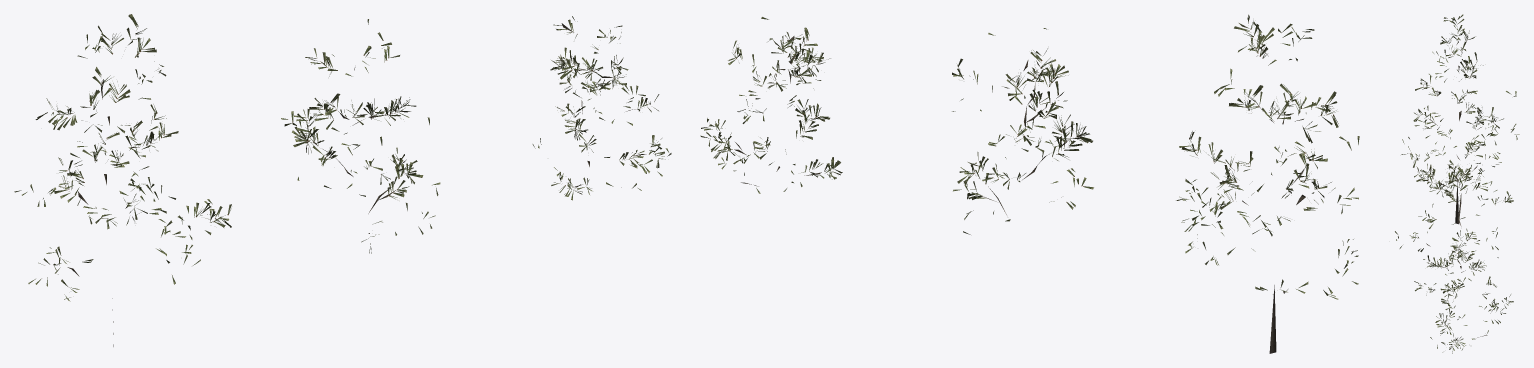
Rendered from pine_sapling_small_lo.glb.
The picture shows the model from 3 angles, left to right: view 1: azimuth 30°, elevation 25°; view 2: azimuth 150°, elevation 25°; view 3: azimuth 270°, elevation 25°; orthographic projection. The views are drawn at different scales.
Visible parts, largest first — view 1: pine_sapling_small_b; view 2: pine_sapling_small_b; view 3: pine_sapling_small_b.
Part boxes in pixels (bbox=[...]): pine_sapling_small_b: bbox=[14, 14, 671, 301]; pine_sapling_small_b: bbox=[700, 14, 1359, 299]; pine_sapling_small_b: bbox=[1395, 14, 1519, 353].
Bounding box in the file's own units: 2.6 × 1.29 × 0.7492.
2 materials, 2 textured.
